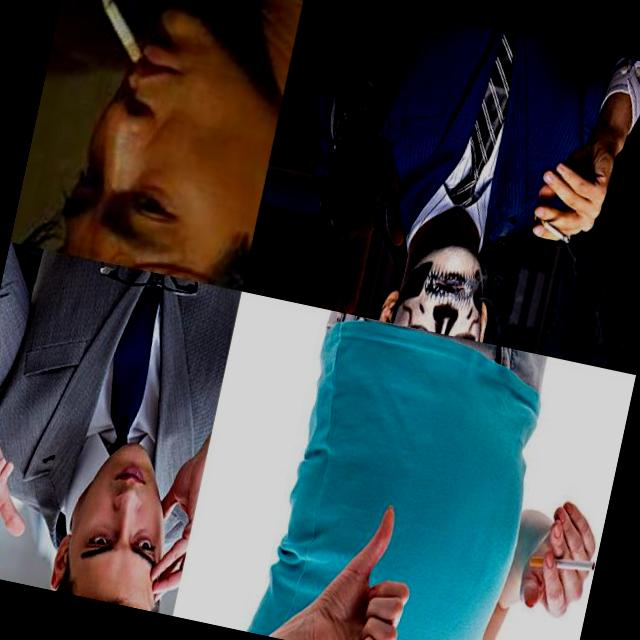smoke: (85, 0, 162, 78), (527, 547, 596, 580), (528, 212, 575, 244), (0, 537, 28, 578)
